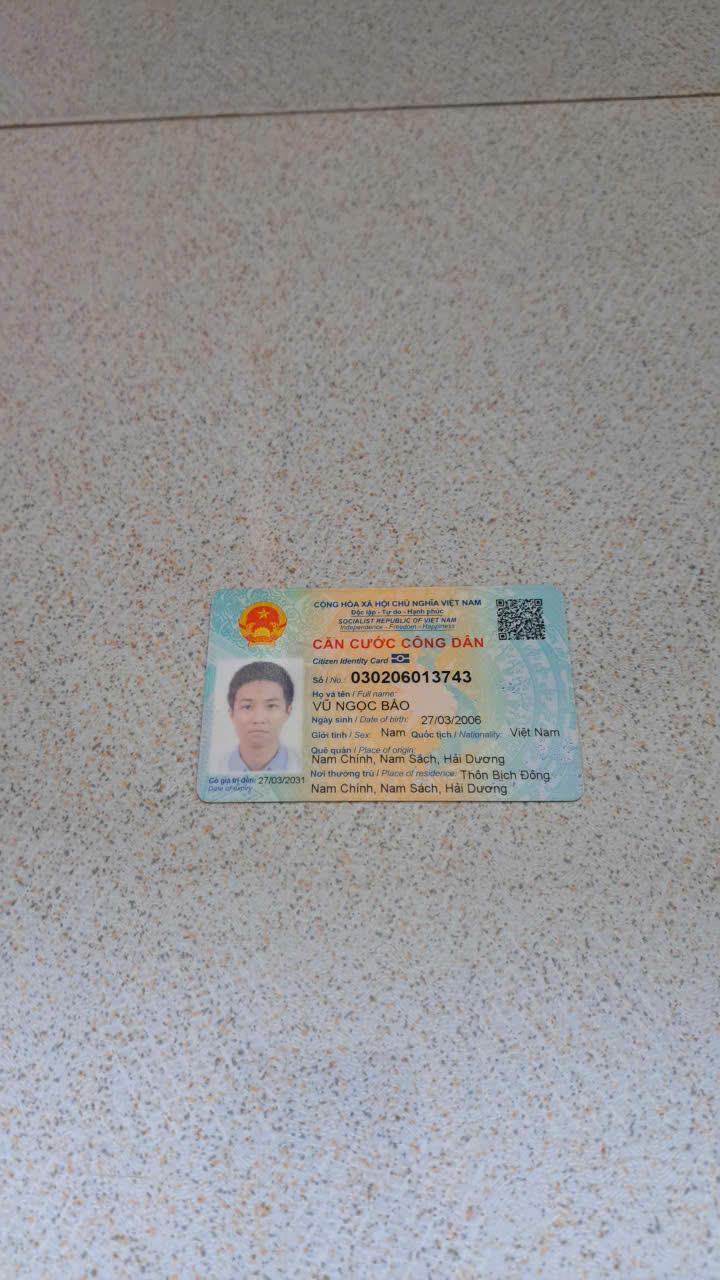cccd: (188, 578, 582, 809)
